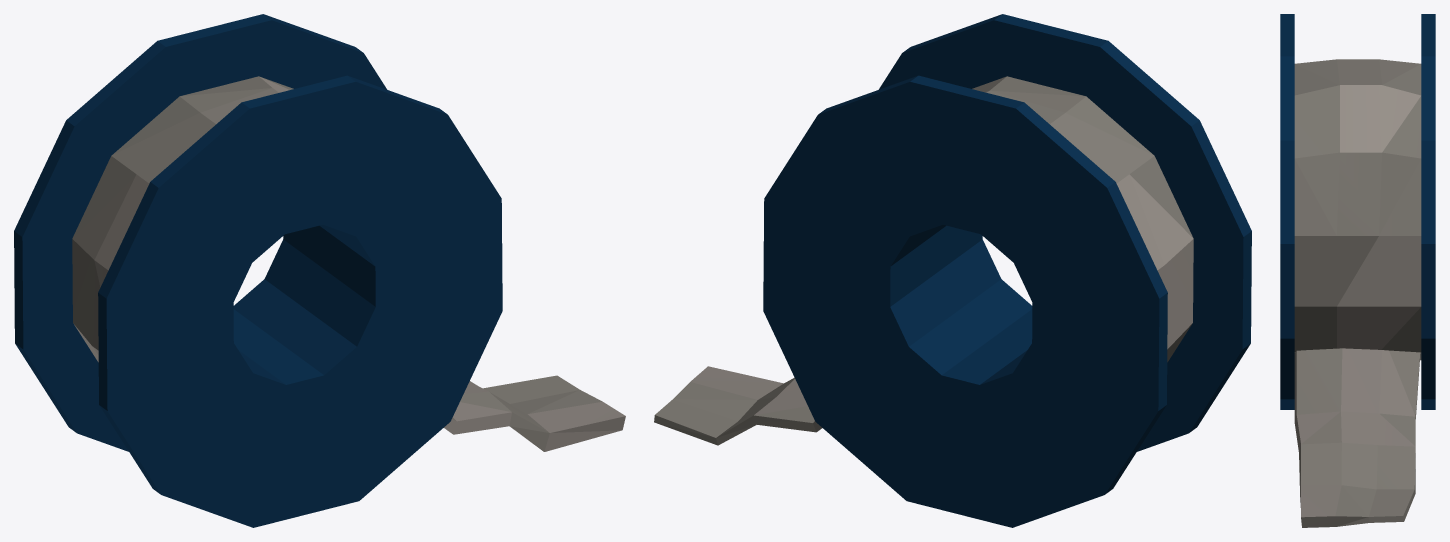
Rendered from SM_INSULATING_TAPE.glb.
The picture shows the model from 3 angles, left to right: view 1: azimuth 30°, elevation 25°; view 2: azimuth 150°, elevation 25°; view 3: azimuth 270°, elevation 25°; orthographic projection. The views are drawn at different scales.
Visible parts, largest first — view 1: SM_INSULATING_TAPE; view 2: SM_INSULATING_TAPE; view 3: SM_INSULATING_TAPE.
Part boxes in pixels (left/top/right/bottom): SM_INSULATING_TAPE: left=14, top=14, right=625, bottom=527; SM_INSULATING_TAPE: left=654, top=14, right=1251, bottom=527; SM_INSULATING_TAPE: left=1280, top=14, right=1435, bottom=527.
Bounding box in the file's own units: 0.1033 × 0.0794 × 0.0311.
1 material, 1 textured.
